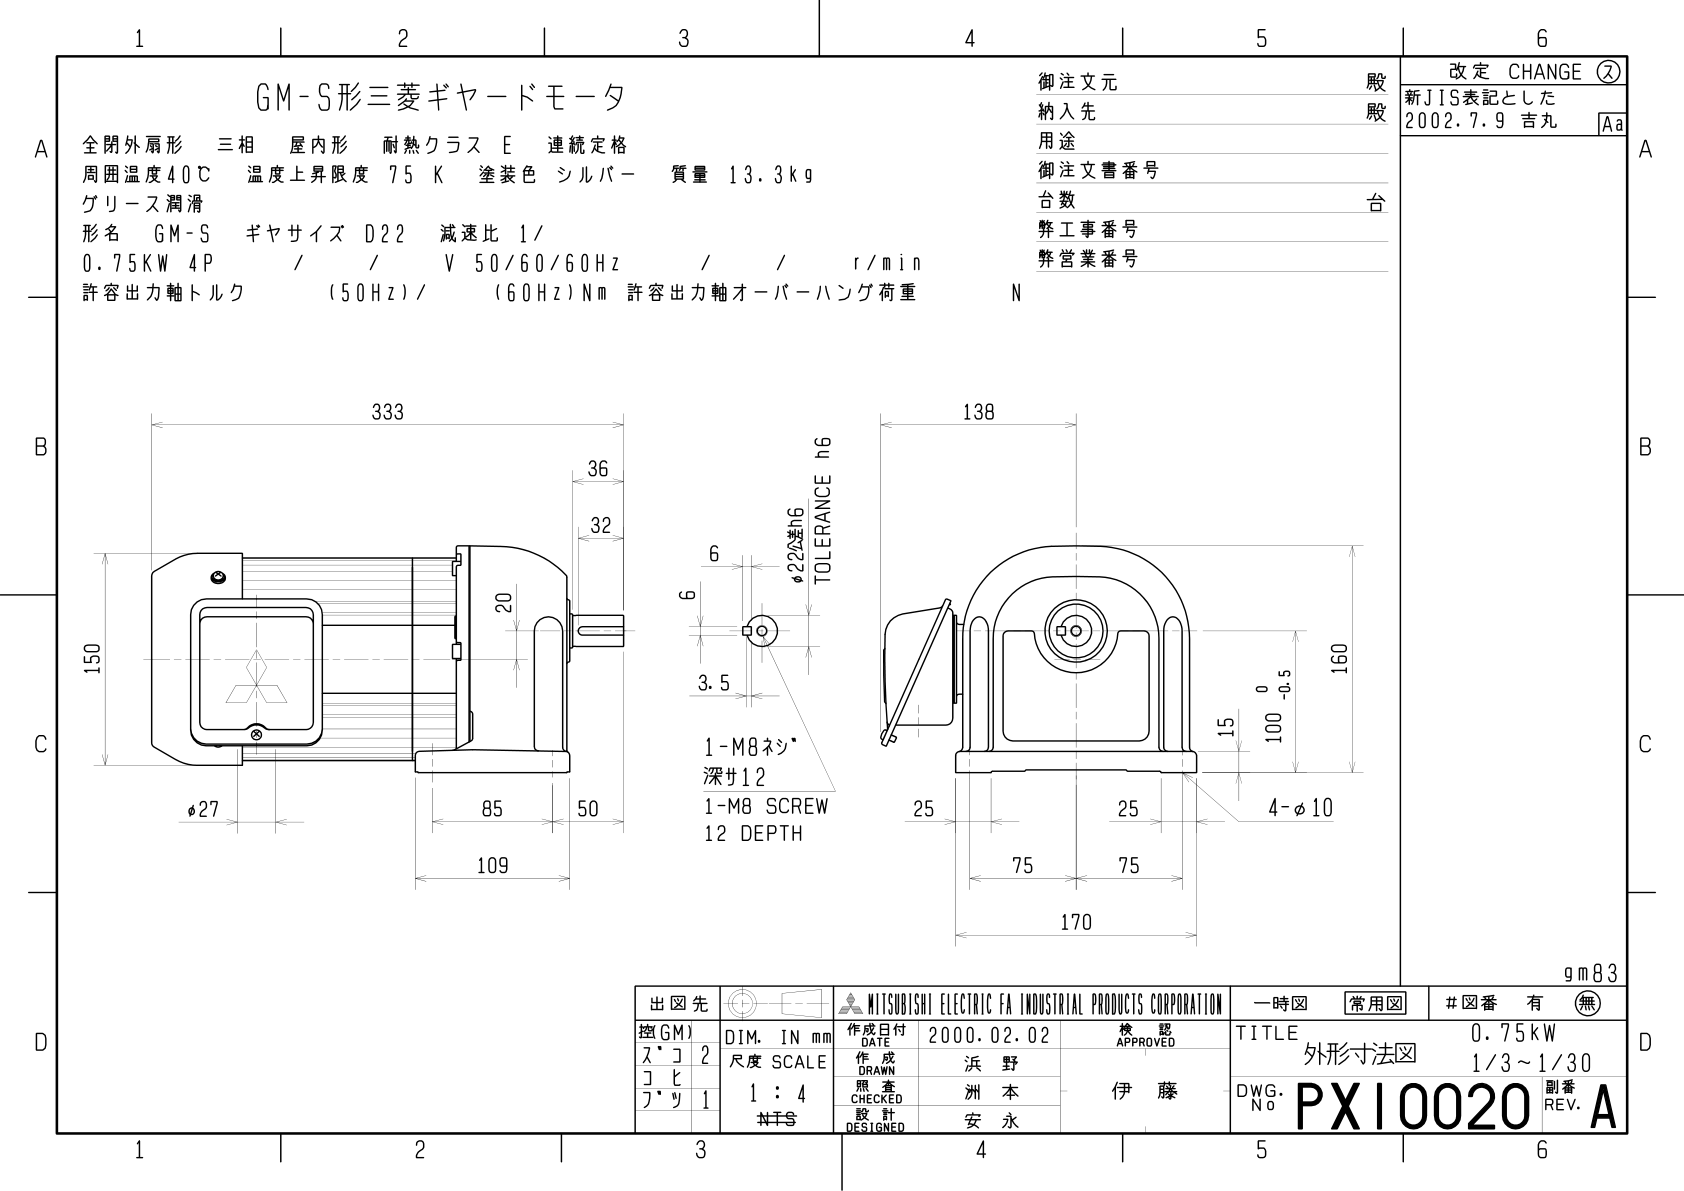GM_S_屋内＿三相_脚: (9, 5, 1684, 1191)
